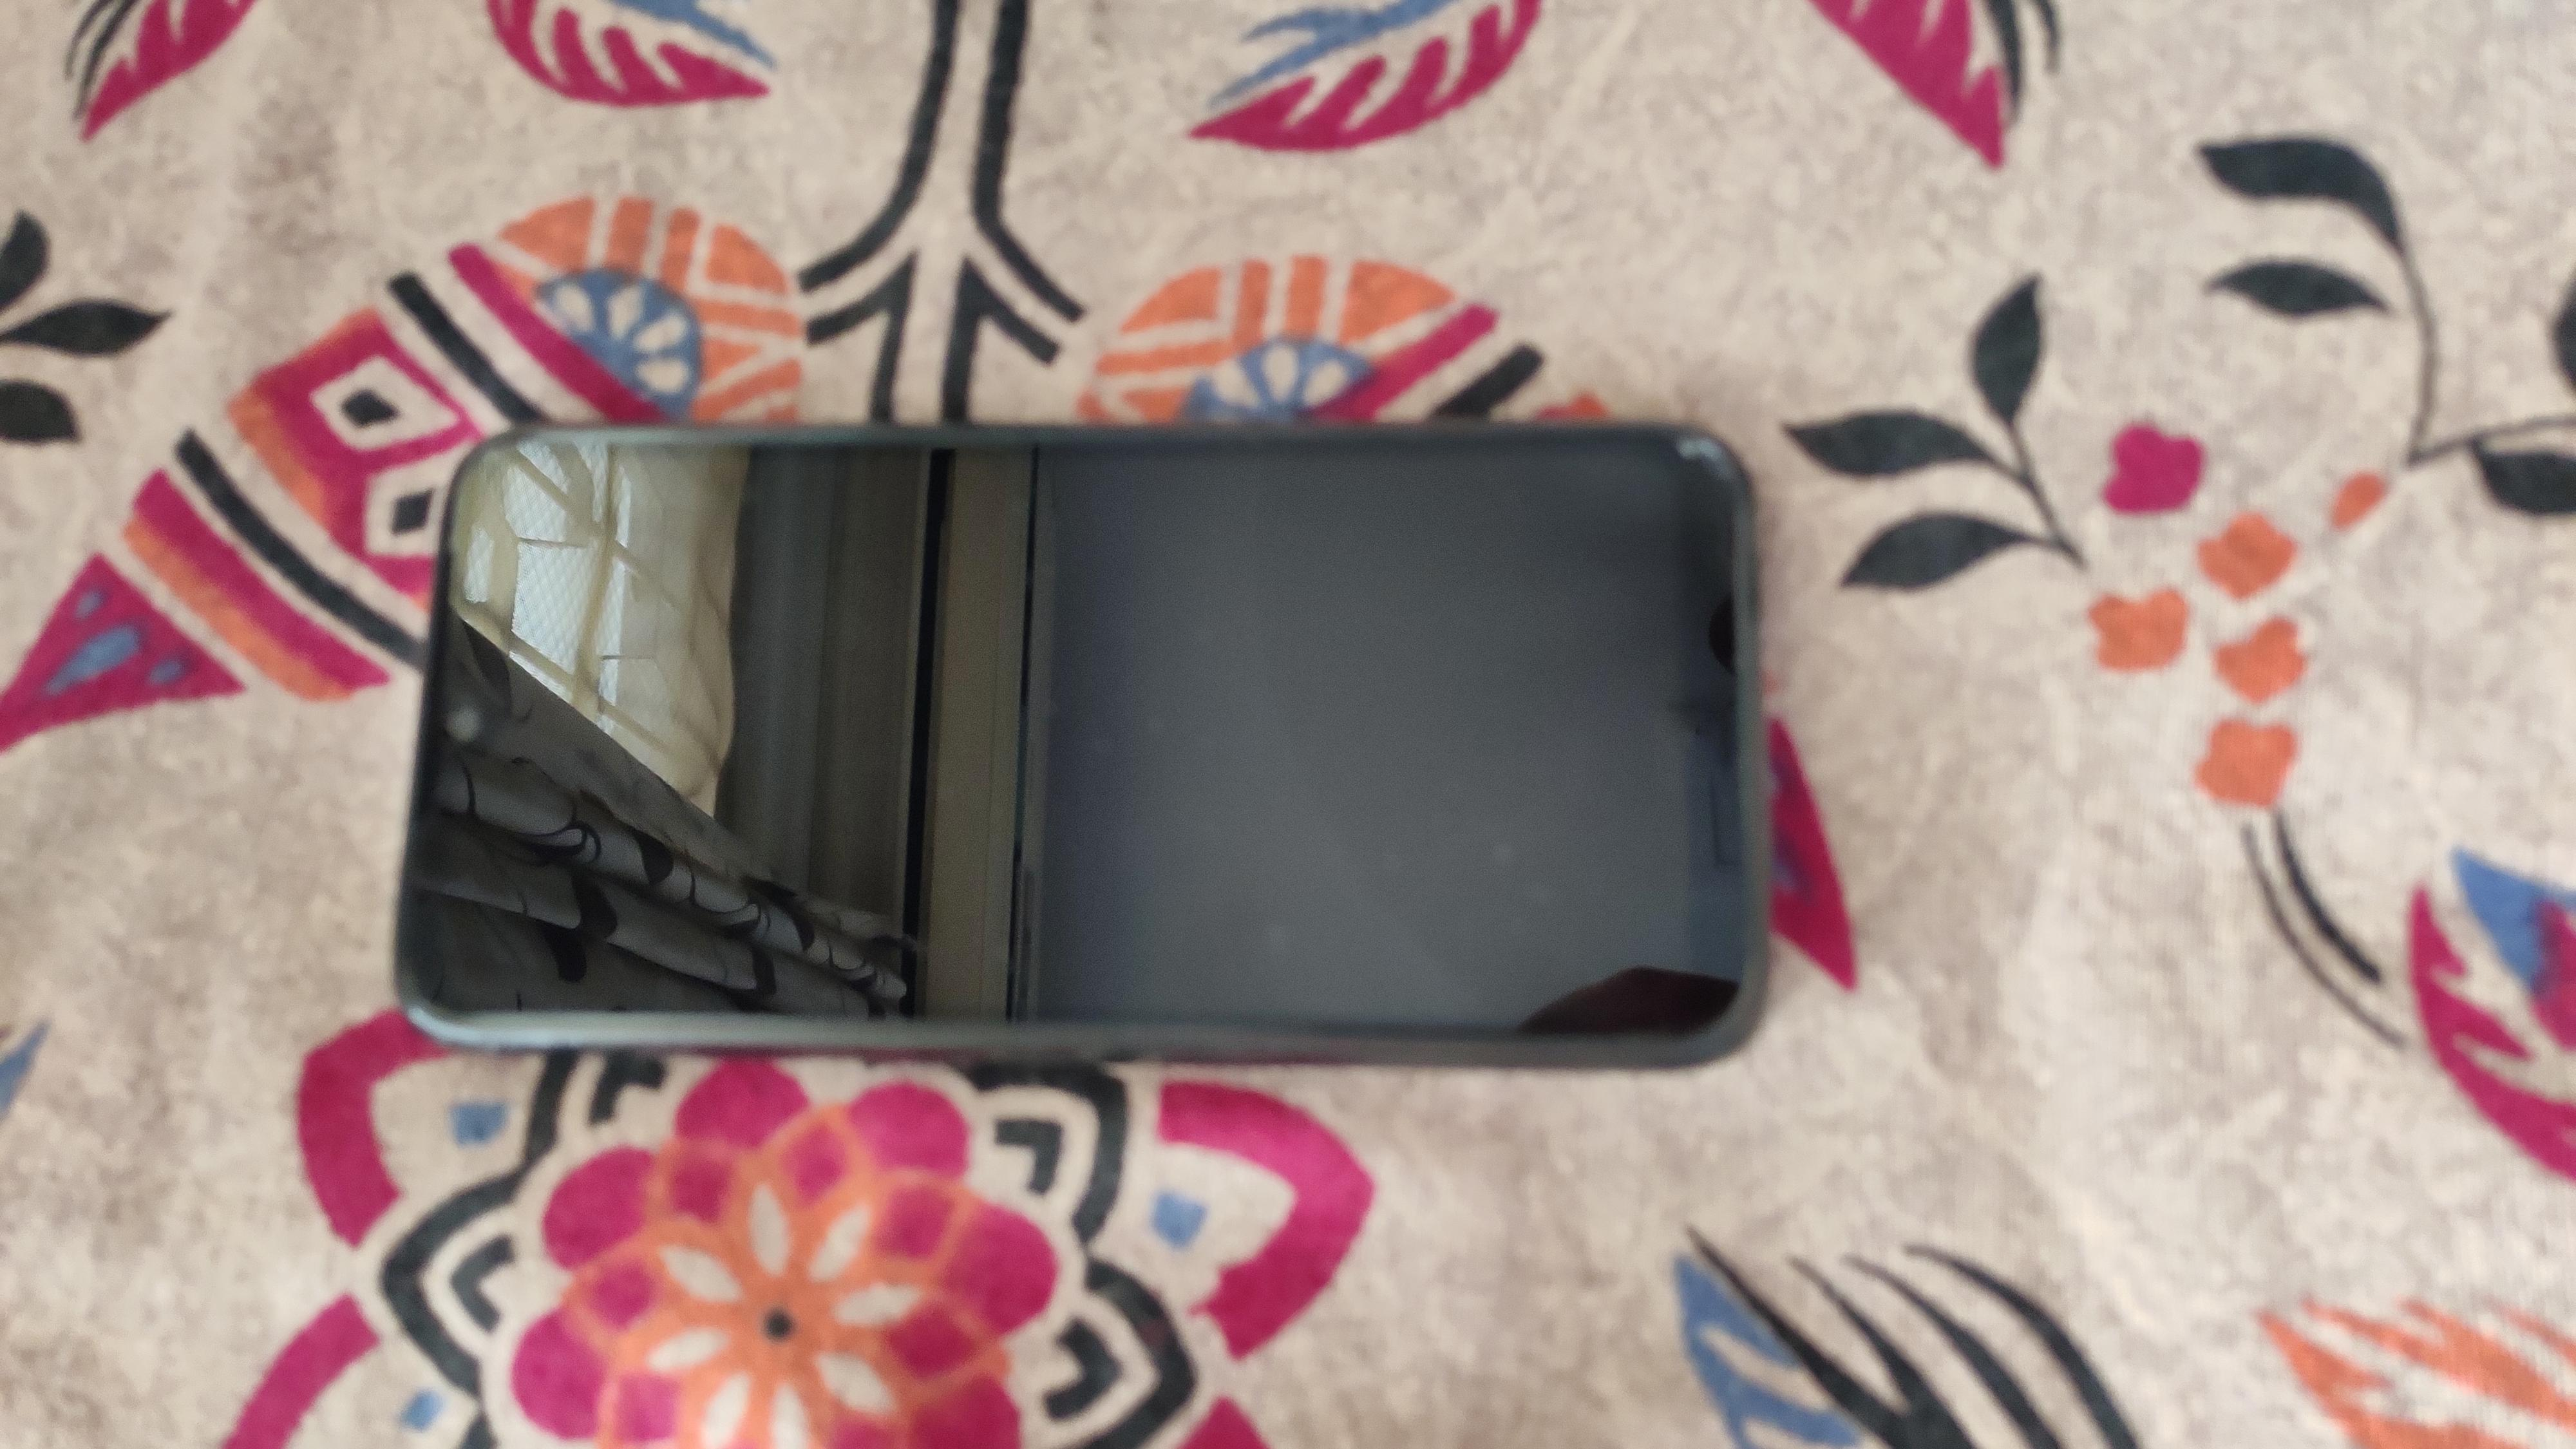Phone: (347, 373, 1821, 1162)
